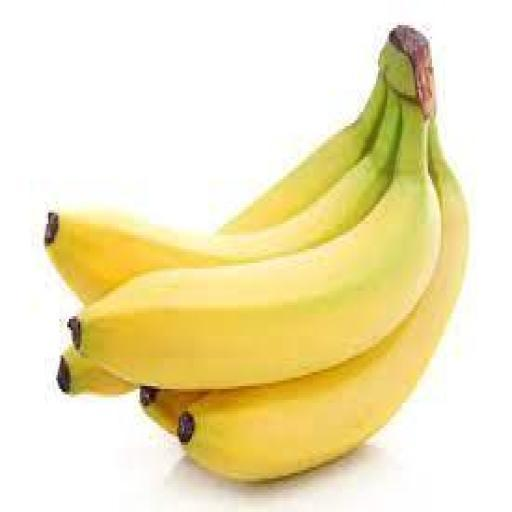banana: (177, 124, 469, 481), (80, 175, 441, 388)
